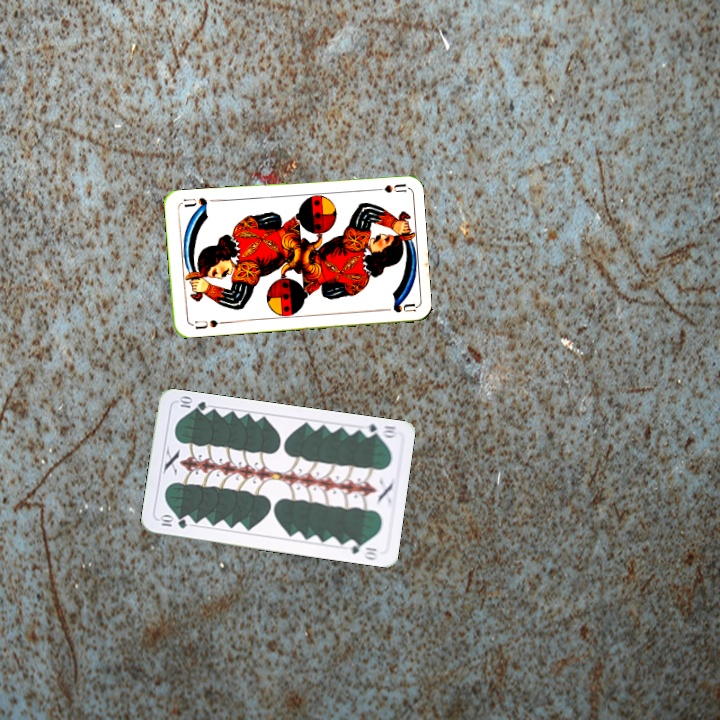G10: (358, 420, 399, 441), (155, 512, 190, 531)
SU: (187, 316, 228, 331), (367, 180, 407, 195)
